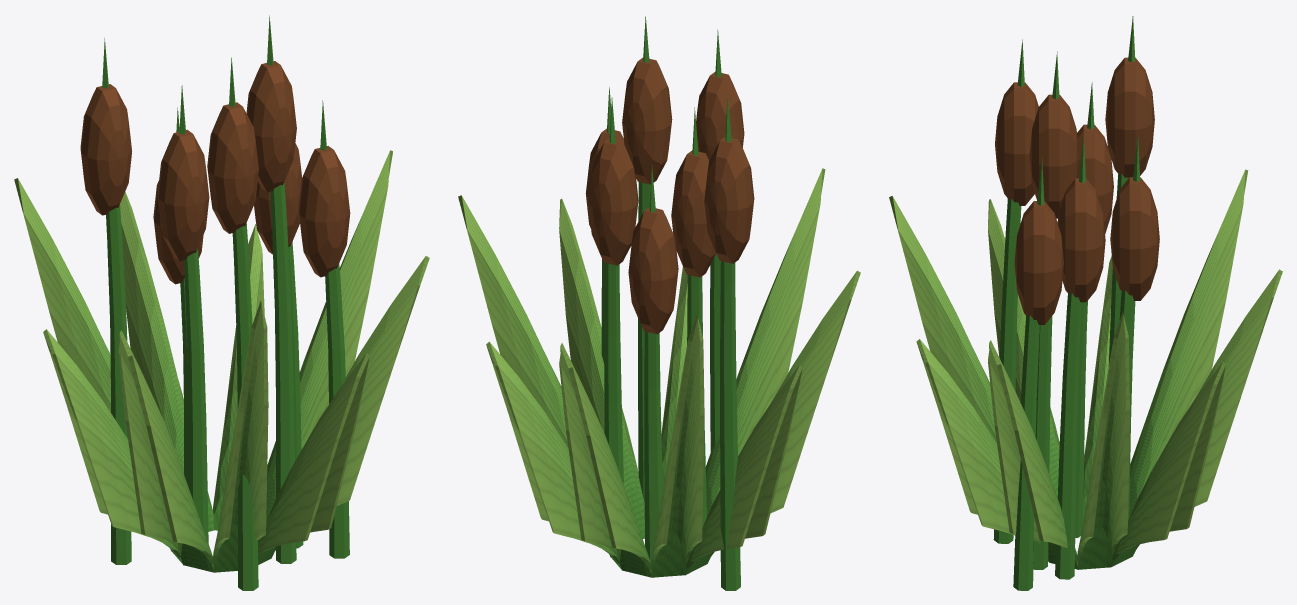
The model's file is Cattails.glb.
The picture shows the model from 3 angles, left to right: view 1: azimuth 30°, elevation 25°; view 2: azimuth 150°, elevation 25°; view 3: azimuth 270°, elevation 25°; orthographic projection. The views are drawn at different scales.
Parts seen in each view (by area): view 1: Cattails; view 2: Cattails; view 3: Cattails.
Boxes of the visible parts, x1,y1,x2,y2 form: Cattails: (14,15,429,590); Cattails: (458,16,860,590); Cattails: (889,16,1282,590).
Size of the model in its own units: 2.65 by 3.88 by 2.7.
Materials: 1 (1 with a texture image).
